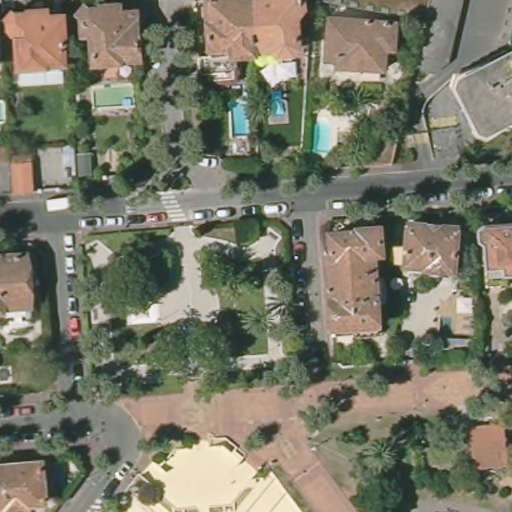pool: (223, 86, 296, 138), (81, 78, 141, 112), (312, 113, 343, 160)
